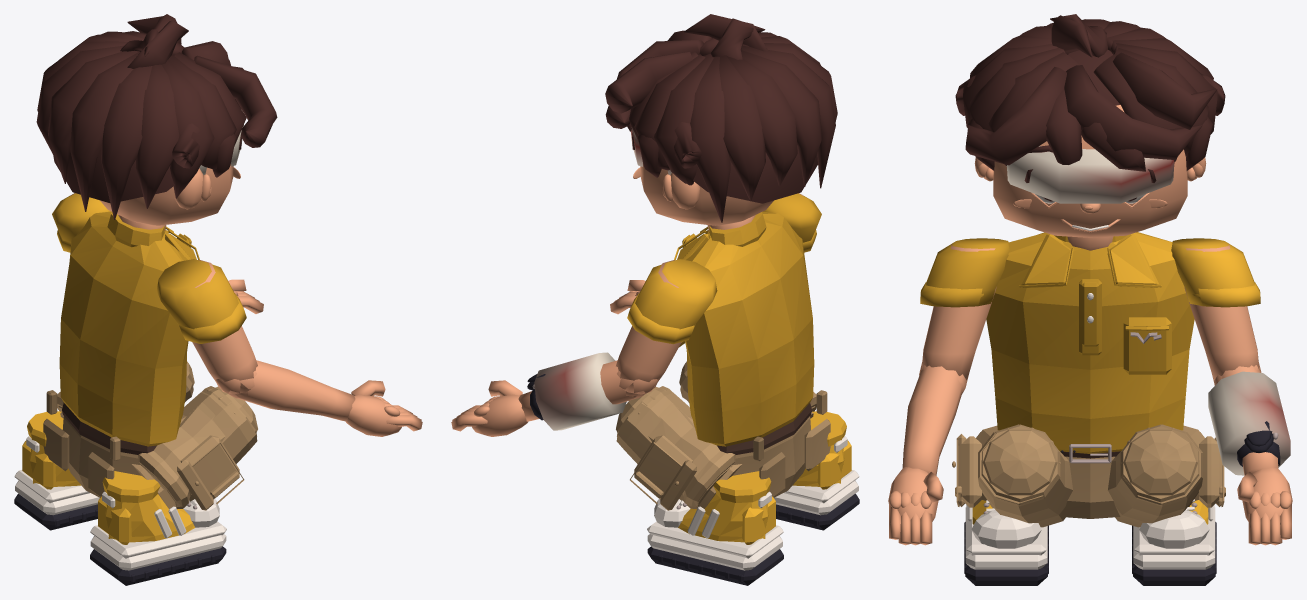
3 renders of one model, left to right at view 1: azimuth 30°, elevation 25°; view 2: azimuth 150°, elevation 25°; view 3: azimuth 270°, elevation 25°, orthographic. The views are drawn at different scales.
Parts seen in each view (by area): view 1: head_pal_hairChestnut, torso_pal_schoolBusYellow, legR_pal_khaki, armR_pal_schoolBusYellow, footR_pal_picketWhite, foreArmR_pal_skinWarm, footR_pal_schoolBusYellow, hip_pal_khaki, head_pal_skinWarm, shinR_pal_khaki, handR_pal_skinWarm, armR_pal_skinWarm (+7 smaller); view 2: head_pal_hairChestnut, torso_pal_schoolBusYellow, legL_pal_khaki, armL_pal_schoolBusYellow, footL_pal_picketWhite, foreArmL_pal_picketWhite, footL_pal_schoolBusYellow, hip_pal_khaki, head_pal_skinWarm, shinL_pal_khaki, handL_pal_skinWarm, armL_pal_skinWarm (+8 smaller); view 3: torso_pal_schoolBusYellow, head_pal_hairChestnut, head_pal_skinWarm, head_pal_picketWhite, foreArmL_pal_picketWhite, shinL_pal_khaki, shinR_pal_khaki, armR_pal_schoolBusYellow, armL_pal_schoolBusYellow, foreArmR_pal_skinWarm, legR_pal_khaki, footL_pal_picketWhite (+12 smaller).
Part boxes in pixels (x1=…): head_pal_hairChestnut: x1=36, y1=14, x2=277, y2=219; torso_pal_schoolBusYellow: x1=59, y1=211, x2=199, y2=446; legR_pal_khaki: x1=132, y1=391, x2=257, y2=510; armR_pal_schoolBusYellow: x1=156, y1=259, x2=246, y2=343; footR_pal_picketWhite: x1=90, y1=491, x2=226, y2=570; foreArmR_pal_skinWarm: x1=216, y1=360, x2=355, y2=421; footR_pal_schoolBusYellow: x1=98, y1=471, x2=195, y2=544; hip_pal_khaki: x1=43, y1=390, x2=141, y2=497; head_pal_skinWarm: x1=100, y1=164, x2=240, y2=230; shinR_pal_khaki: x1=138, y1=386, x2=257, y2=506; handR_pal_skinWarm: x1=345, y1=380, x2=422, y2=436; armR_pal_skinWarm: x1=192, y1=260, x2=257, y2=394; head_pal_hairChestnut: x1=605, y1=14, x2=837, y2=222; torso_pal_schoolBusYellow: x1=674, y1=211, x2=814, y2=446; legL_pal_khaki: x1=616, y1=391, x2=741, y2=510; armL_pal_schoolBusYellow: x1=627, y1=259, x2=717, y2=344; footL_pal_picketWhite: x1=647, y1=491, x2=783, y2=570; foreArmL_pal_picketWhite: x1=534, y1=352, x2=626, y2=430; footL_pal_schoolBusYellow: x1=678, y1=471, x2=775, y2=544; hip_pal_khaki: x1=732, y1=390, x2=830, y2=497; head_pal_skinWarm: x1=633, y1=164, x2=773, y2=231; shinL_pal_khaki: x1=616, y1=386, x2=735, y2=506; handL_pal_skinWarm: x1=451, y1=380, x2=528, y2=436; armL_pal_skinWarm: x1=616, y1=260, x2=681, y2=394; torso_pal_schoolBusYellow: x1=986, y1=232, x2=1194, y2=453; head_pal_hairChestnut: x1=955, y1=14, x2=1225, y2=201; head_pal_skinWarm: x1=974, y1=105, x2=1206, y2=250; head_pal_picketWhite: x1=1006, y1=146, x2=1174, y2=230; foreArmL_pal_picketWhite: x1=1208, y1=371, x2=1290, y2=475; shinL_pal_khaki: x1=1120, y1=424, x2=1204, y2=504; shinR_pal_khaki: x1=976, y1=424, x2=1060, y2=504; armR_pal_schoolBusYellow: x1=920, y1=238, x2=1009, y2=307; armL_pal_schoolBusYellow: x1=1171, y1=238, x2=1260, y2=307; foreArmR_pal_skinWarm: x1=902, y1=362, x2=968, y2=475; legR_pal_khaki: x1=952, y1=424, x2=1072, y2=527; footL_pal_picketWhite: x1=1133, y1=499, x2=1215, y2=569.
Bounding box in the file's own units: 0.7546 × 1.28 × 0.8363.
